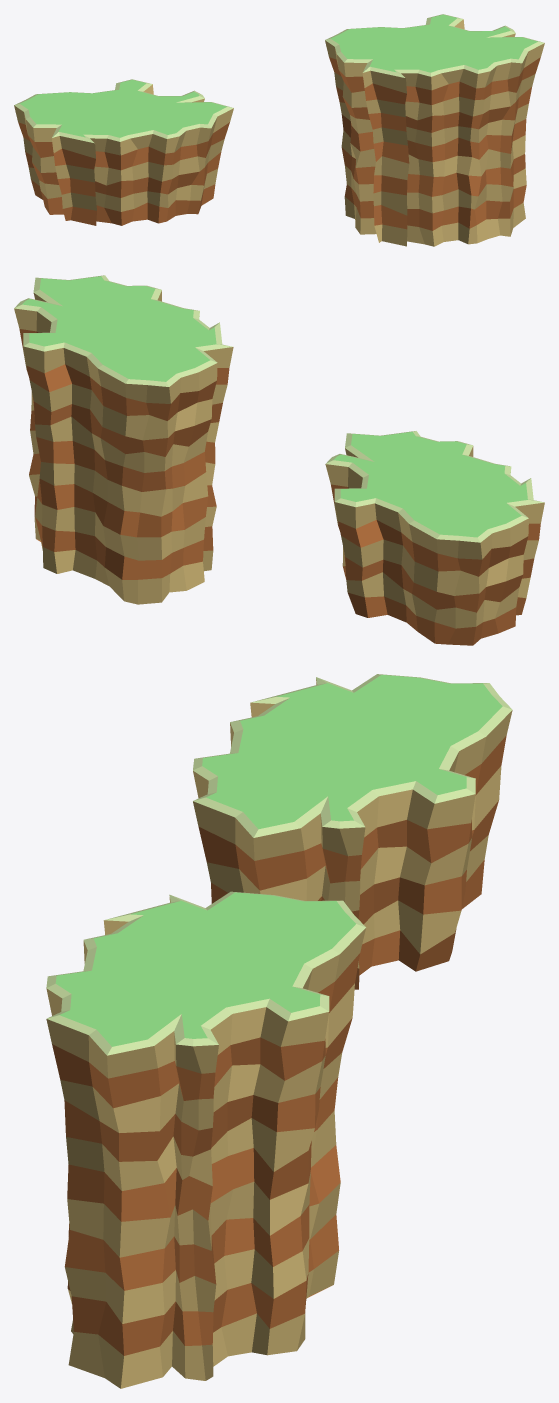
The model's file is cliff.fbx.
3 views of the same model, one above another, from view 1: azimuth 30°, elevation 25°; view 2: azimuth 150°, elevation 25°; view 3: azimuth 270°, elevation 25° (orthographic). The views are drawn at different scales.
Visible parts, largest first — view 1: Plane.001, Plane; view 2: Plane.001, Plane; view 3: Plane.001, Plane.
Boxes of the visible parts, bbox=[...] form: Plane.001: bbox=[325, 14, 544, 246]; Plane: bbox=[14, 79, 233, 225]; Plane.001: bbox=[14, 275, 233, 604]; Plane: bbox=[325, 431, 544, 645]; Plane.001: bbox=[46, 891, 365, 1388]; Plane: bbox=[193, 674, 512, 989].
Size of the model in its own units: 3584 by 1378 by 1629.
